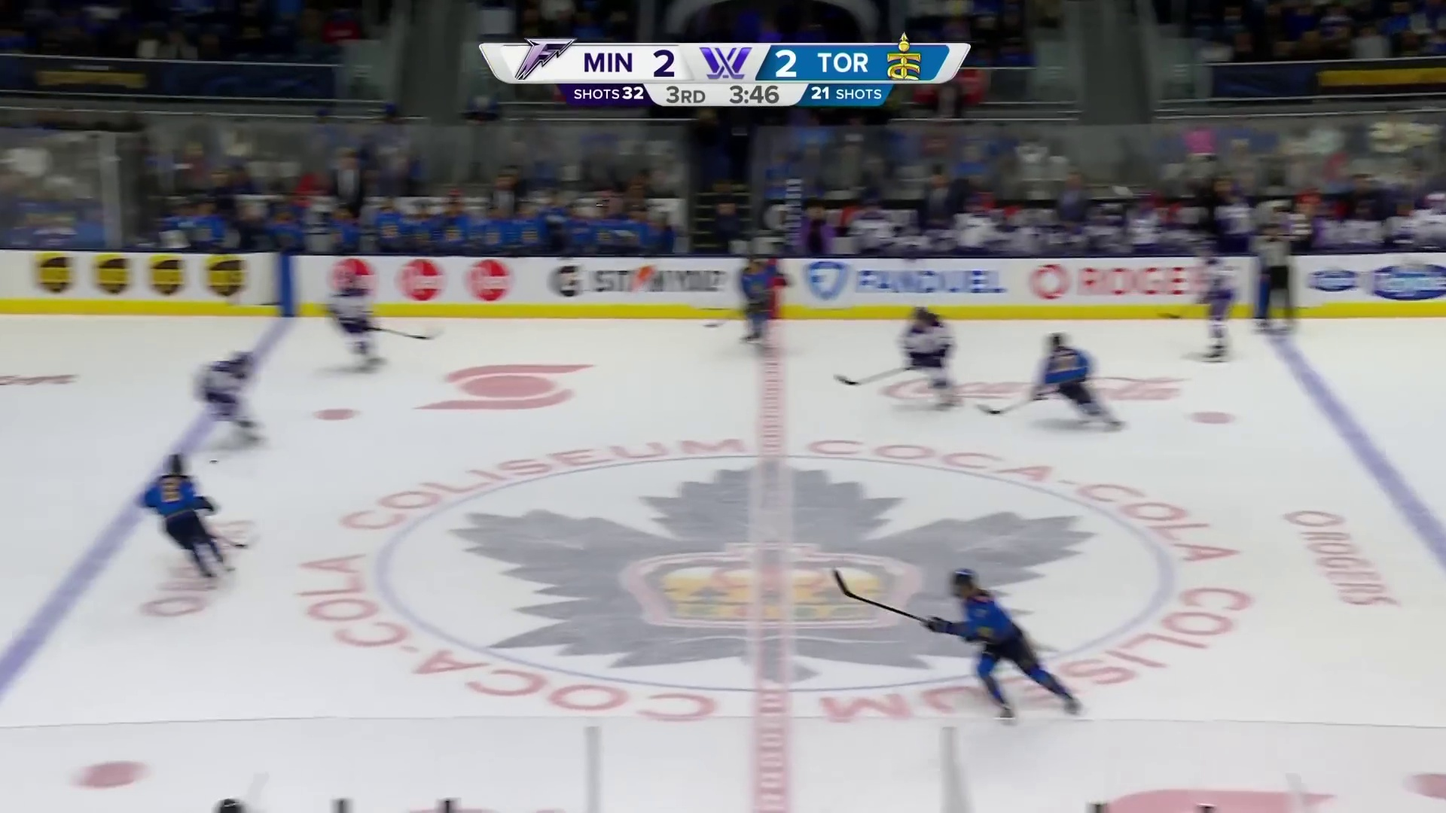player: (918, 567, 1081, 720), (132, 450, 234, 585), (1024, 329, 1119, 420), (318, 268, 387, 373), (733, 255, 786, 344)
puck: (207, 457, 219, 464)
